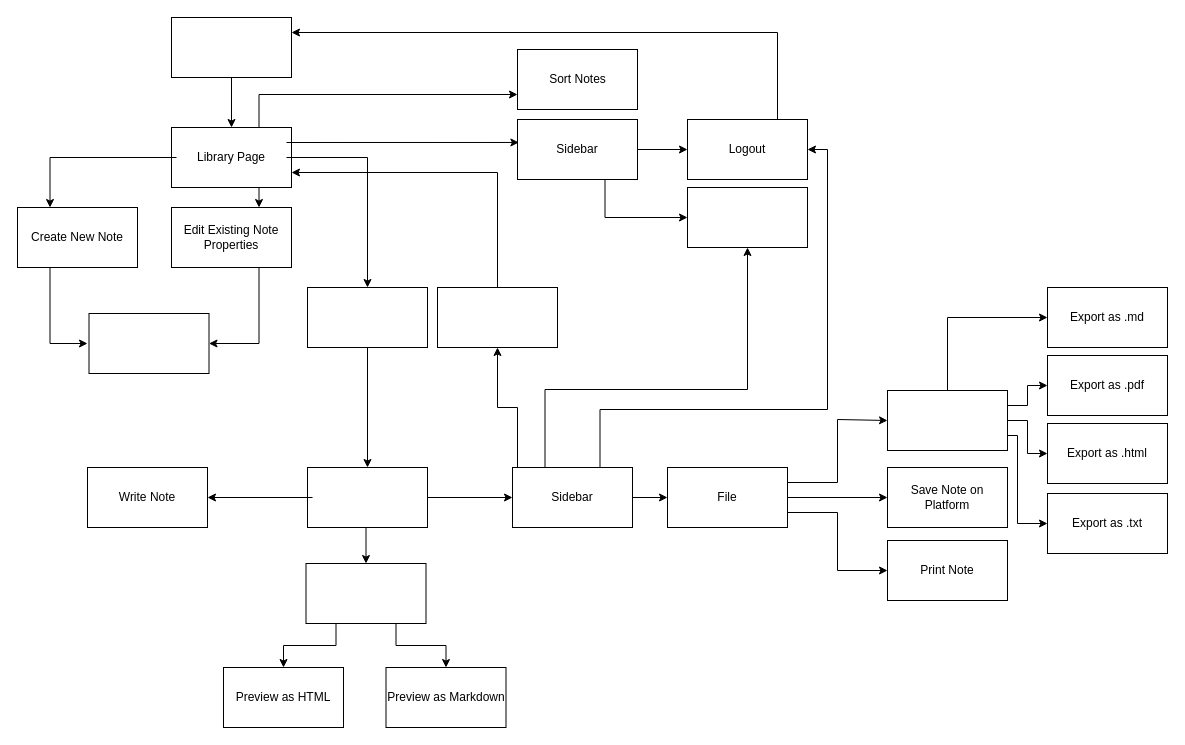
This 1185x745 diagram has some shape labels left out. The centre of each missing label's shape, as x and y in pixels:
"Authentication" goes at point 231,47.
"Back" goes at point 497,317.
"Editor" goes at point 367,497.
"Open Note" goes at point 367,317.
"Preview" goes at point 365,593.
"Save/Export on PC" goes at point 947,420.
"Set Note Properties" goes at point 148,343.
"Settings" goes at point 747,217.
